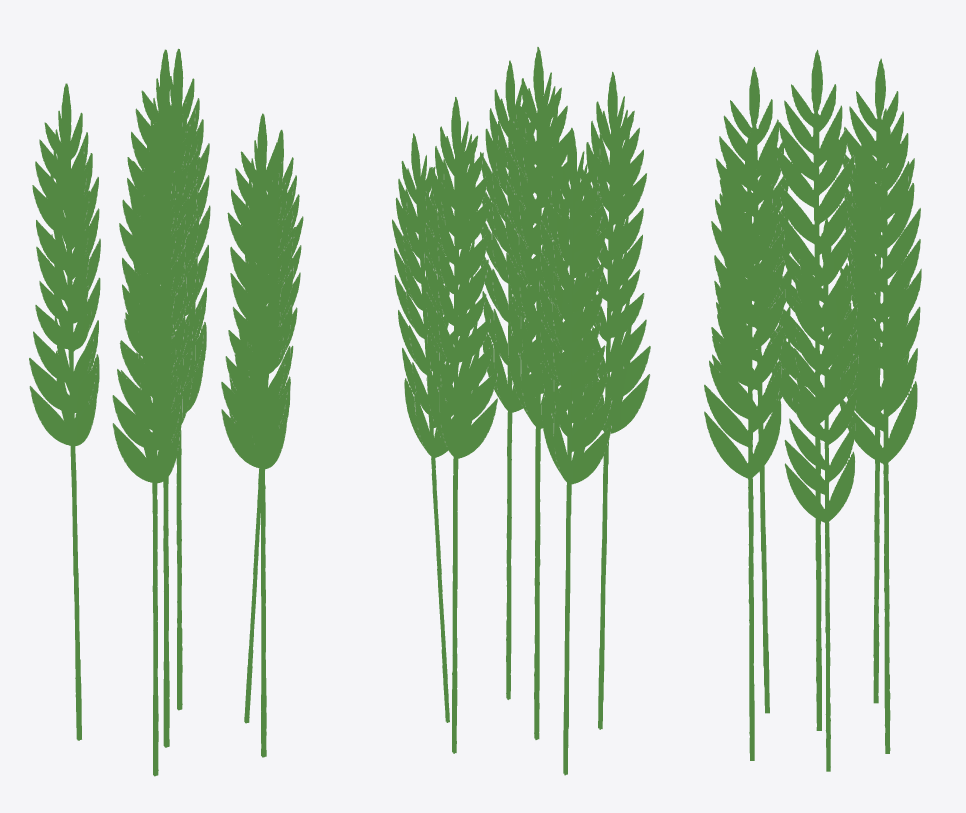
Rendered from Plant_03.fbx.
3 renders of one model, left to right at view 1: azimuth 30°, elevation 25°; view 2: azimuth 150°, elevation 25°; view 3: azimuth 270°, elevation 25°, orthographic. The views are drawn at different scales.
Visible parts, largest first — view 1: Plant_03_LOD0; view 2: Plant_03_LOD0; view 3: Plant_03_LOD0.
Part boxes in pixels (left/top/right/bottom): Plant_03_LOD0: left=29, top=48, right=303, bottom=776; Plant_03_LOD0: left=392, top=47, right=650, bottom=775; Plant_03_LOD0: left=704, top=49, right=921, bottom=771.
Size of what is drawn, in the model's own units: 0.3387 by 0.7904 by 0.2665.
